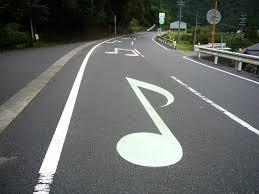road: (50, 32, 258, 192), (0, 46, 90, 192)
